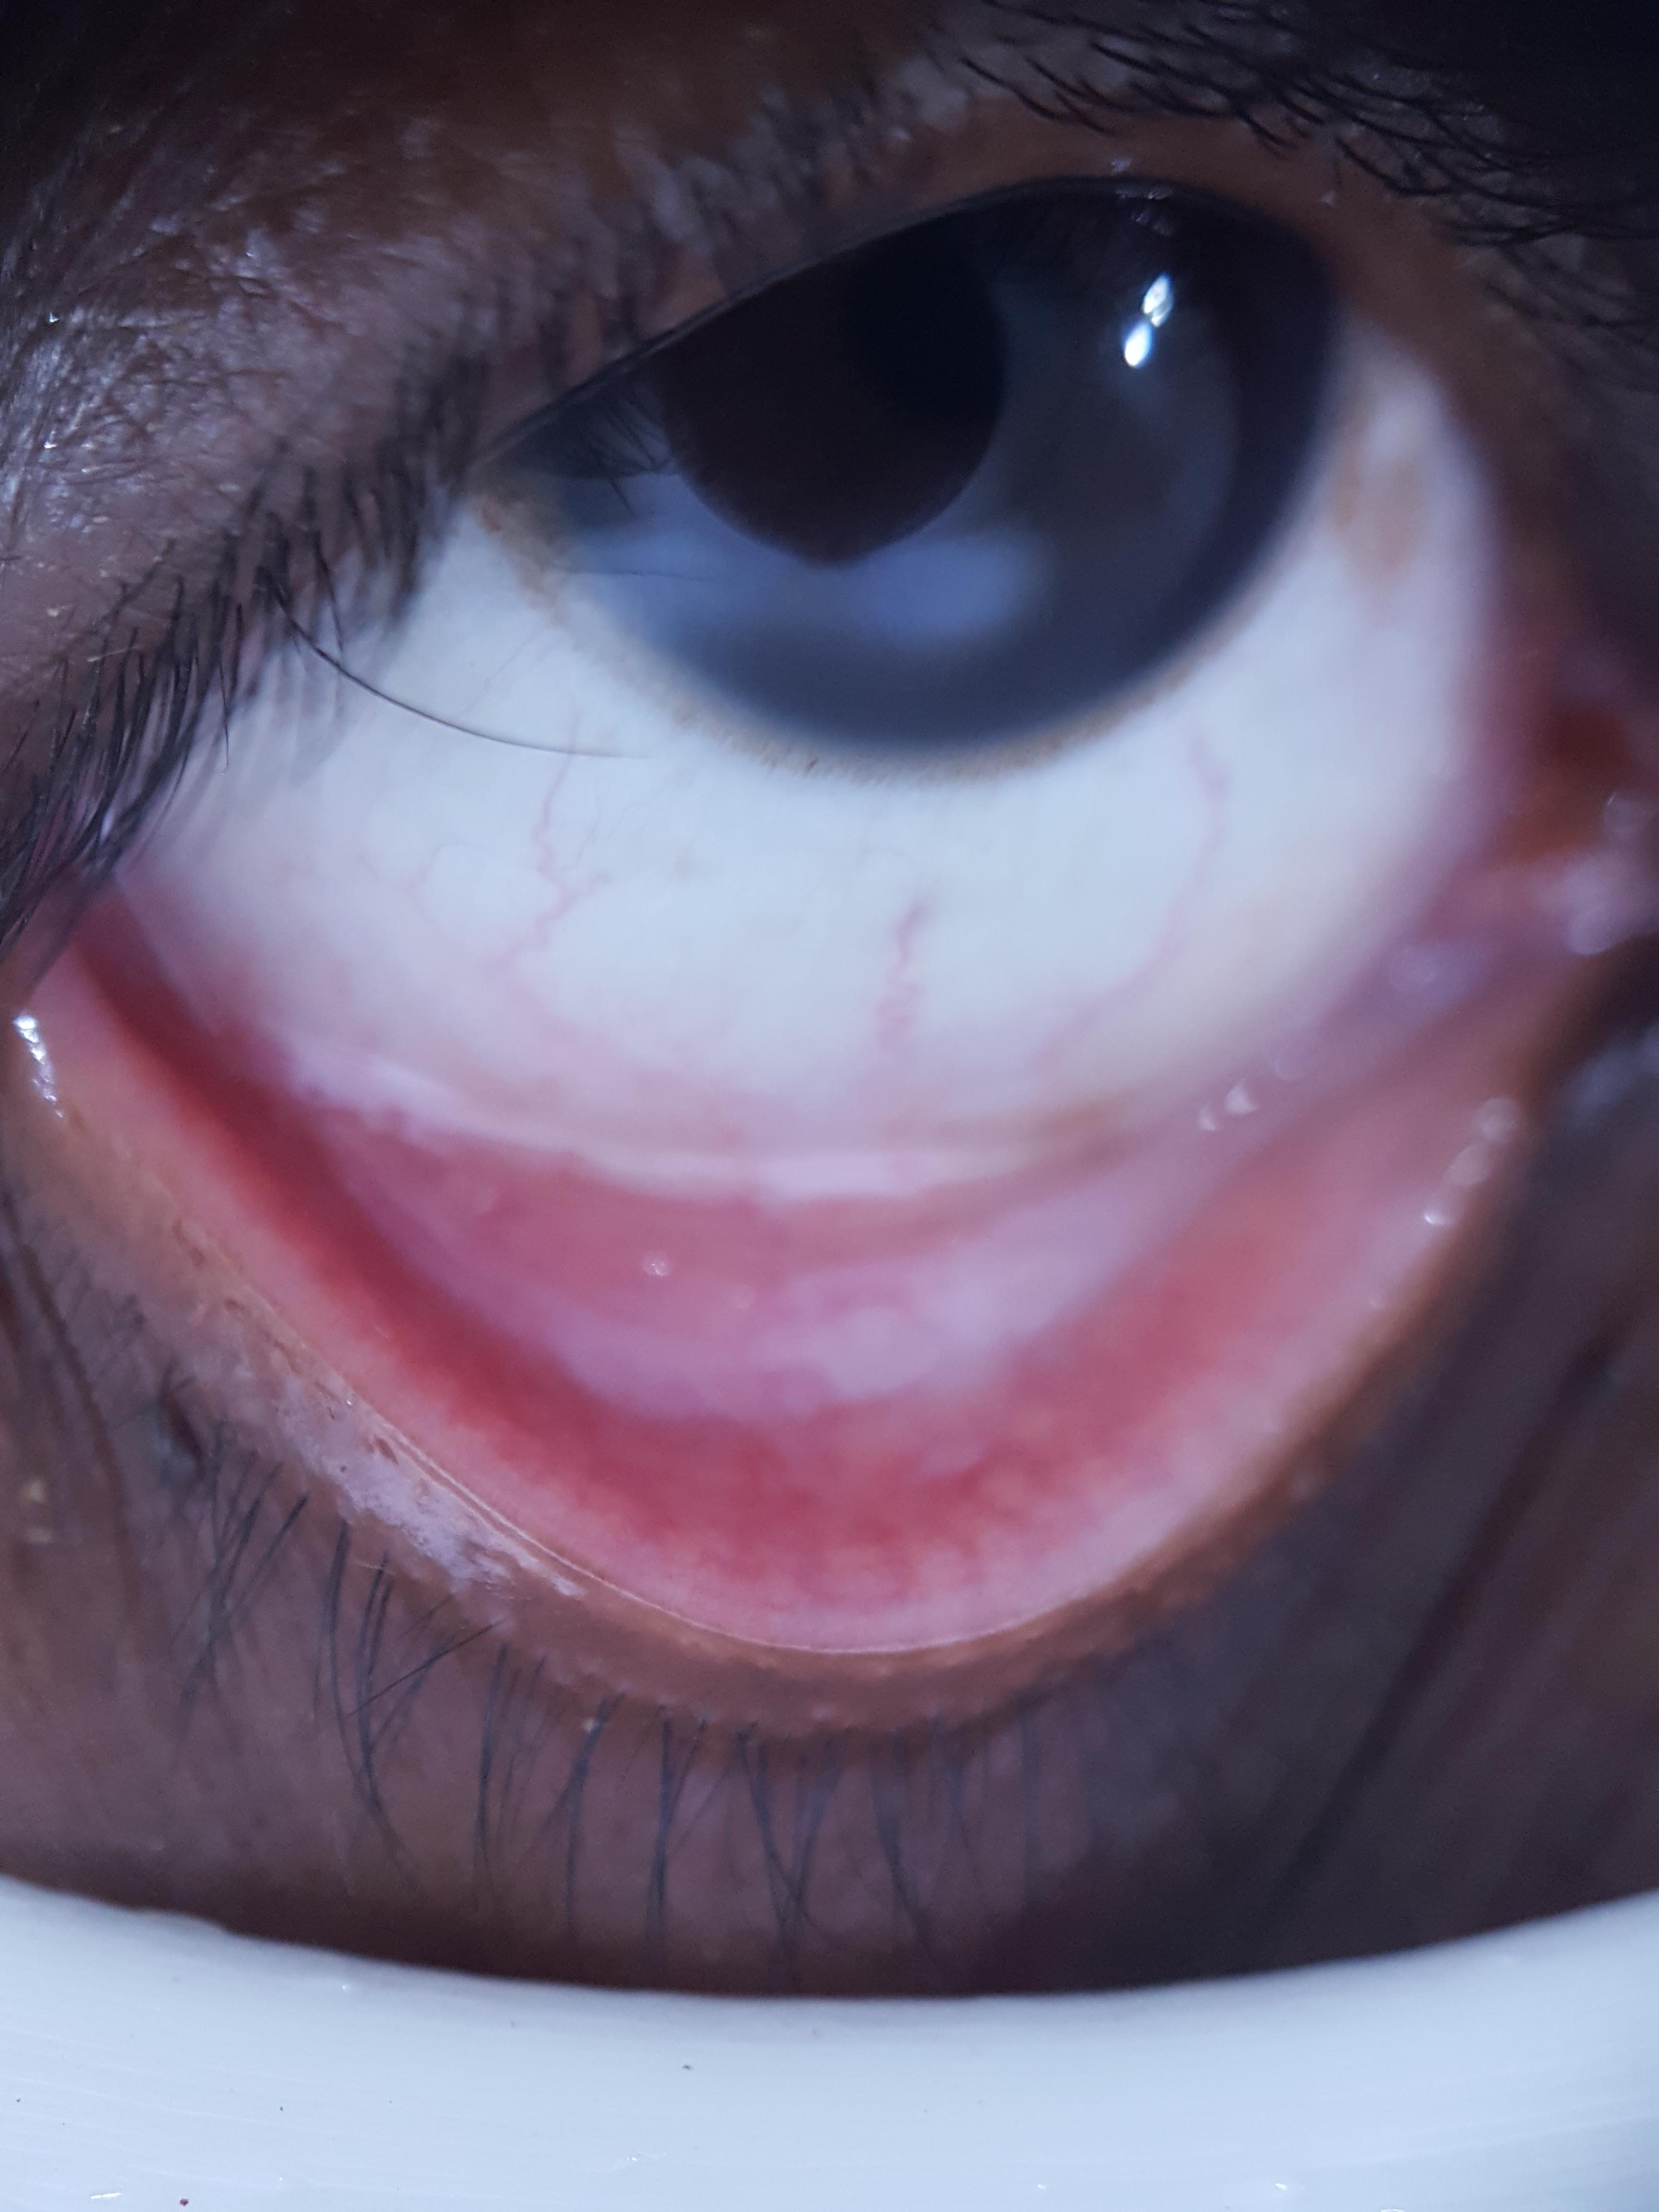forniceal: (279, 930, 1495, 1421)
forniceal_palpebral: (143, 920, 1511, 1599)
palpebral: (152, 1003, 1448, 1588)
